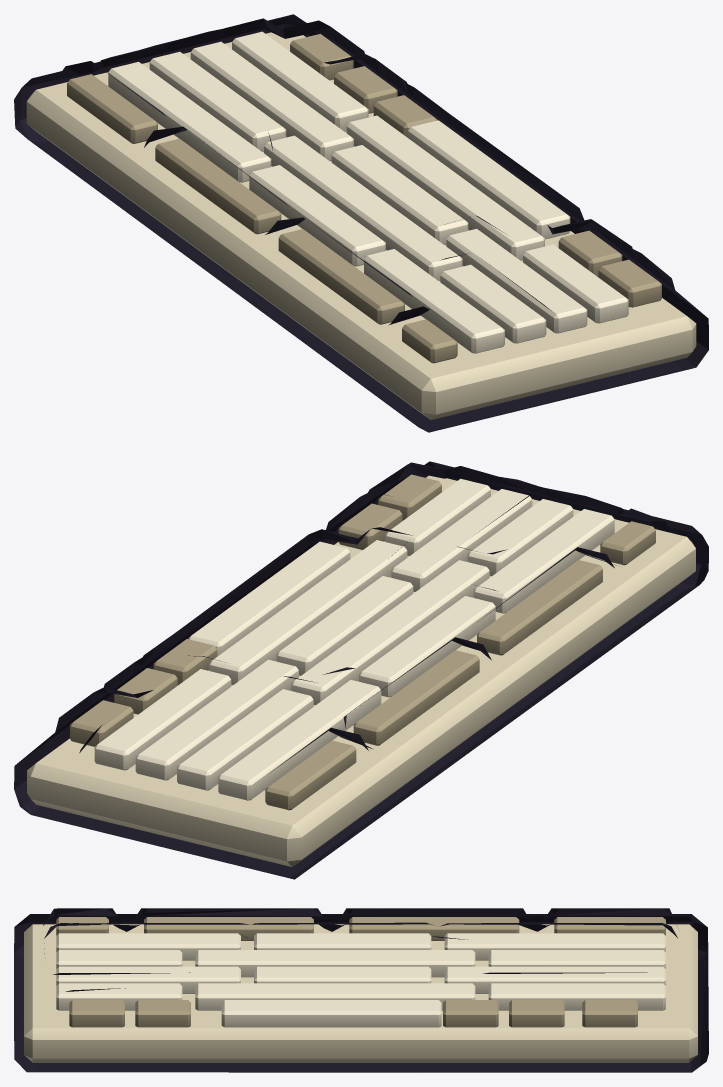
The model's file is Keyboard_Outline.fbx.
The picture shows the model from 3 angles, top to bottom: view 1: azimuth 30°, elevation 25°; view 2: azimuth 150°, elevation 25°; view 3: azimuth 270°, elevation 25°; orthographic projection. The views are drawn at different scales.
Visible parts, largest first — view 1: Keyboard; view 2: Keyboard; view 3: Keyboard.
Boxes of the visible parts, box(x1,y1,x2,y2) form: Keyboard: box(14, 14, 708, 432); Keyboard: box(14, 461, 708, 879); Keyboard: box(14, 908, 708, 1072).
Bounding box in the file's own units: 0.8744 × 0.2369 × 2.13.
Materials: 1 (1 with a texture image).
